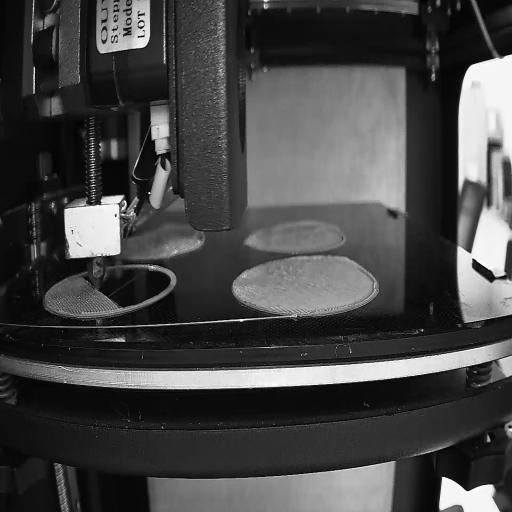over_extrusion: (358, 260, 380, 309)
